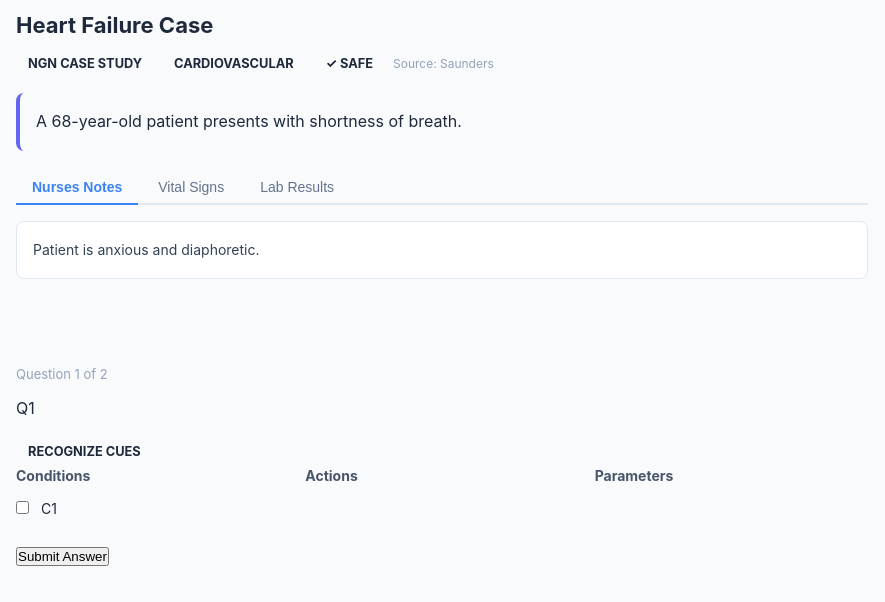
Test: NGNCaseStudyComponent › disables inputs after submission for multi-question case
The width and height of the screenshot is (885, 602).
Click the button "Submit Answer". click: coordinates (62, 557)
box: [16,547,109,566]
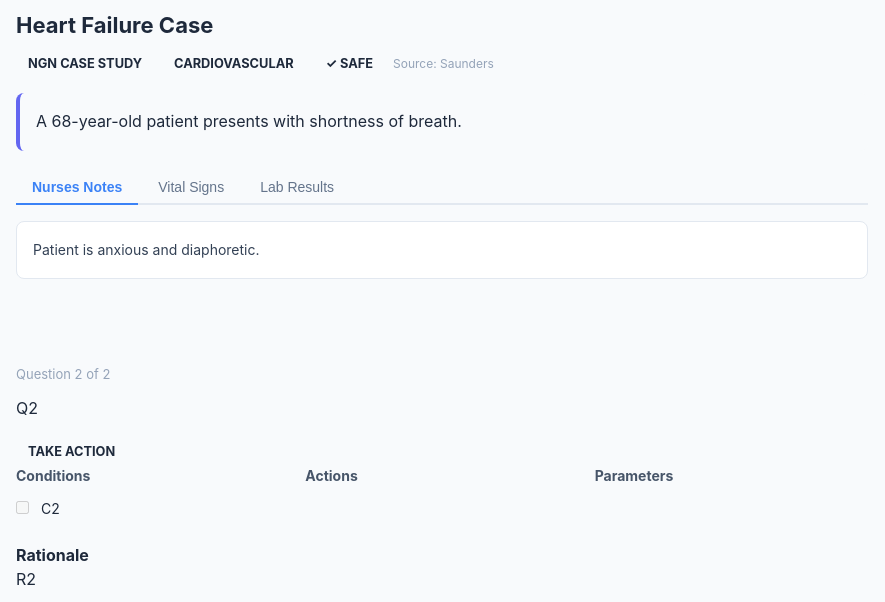
Expected: the text "Question 2 of 2" is shown, [16,366,110,382]
